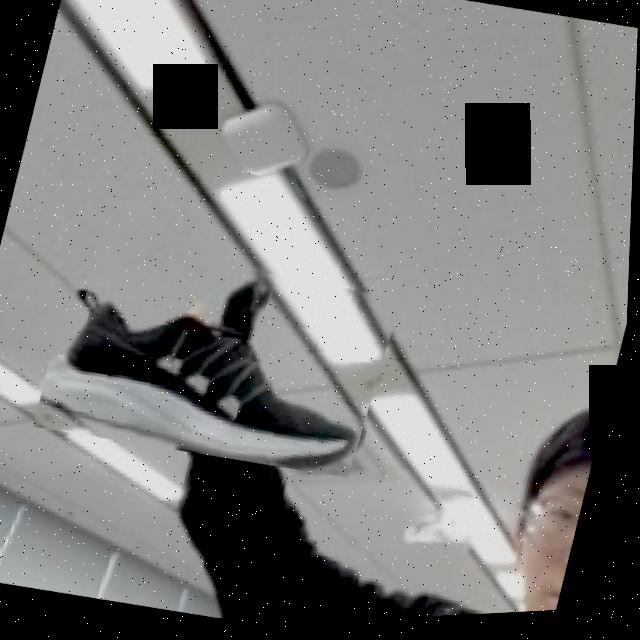shoe: (34, 226, 407, 496)
